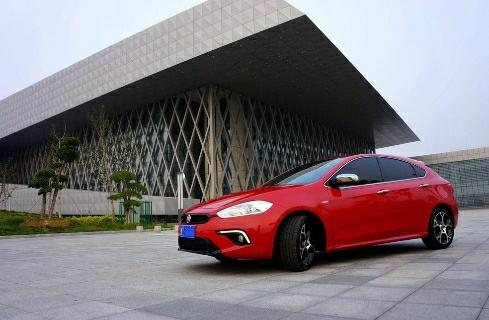car: (174, 155, 459, 275)
